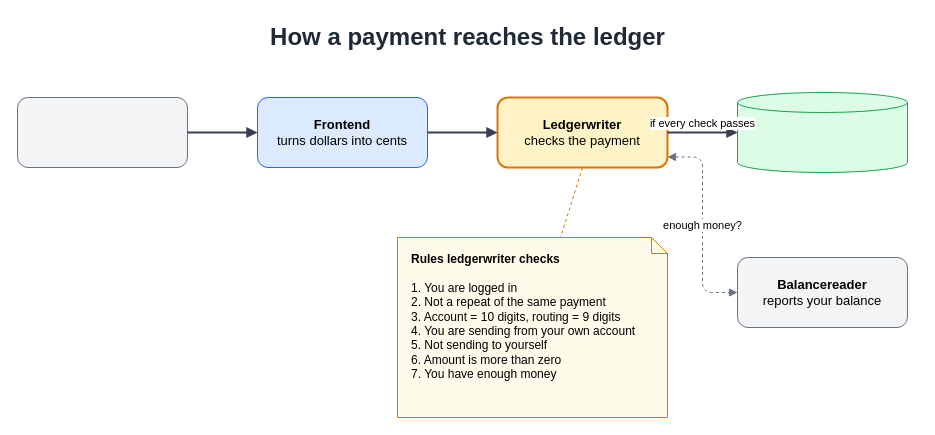
Image size: 935x435. Some labels were removed from this diagram. The box of each missing label's shape, as (x1, y1, x2, y2) in pixels:
Ledger database records the payment: (736, 92, 908, 172)
You fill in the payment form: (16, 96, 188, 168)
